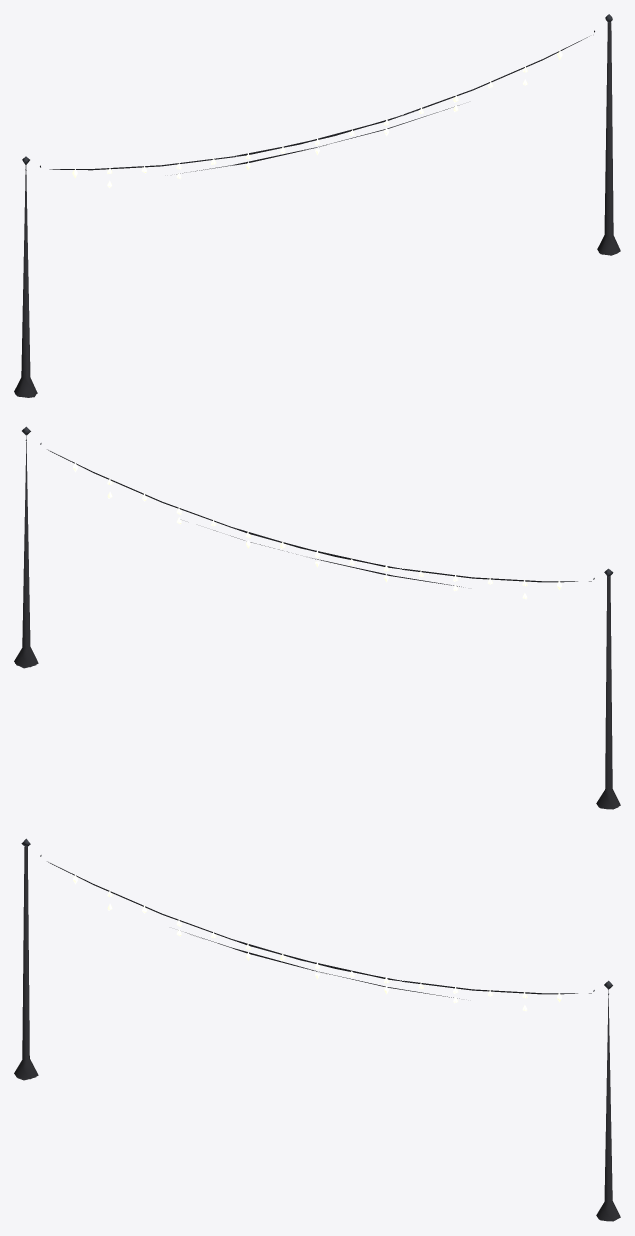
Rendered from lod_string_lights_span.glb.
The picture shows the model from 3 angles, top to bottom: view 1: azimuth 30°, elevation 25°; view 2: azimuth 150°, elevation 25°; view 3: azimuth 330°, elevation 25°; orthographic projection.
Visible parts, largest first — view 1: string_lights_span; view 2: string_lights_span; view 3: string_lights_span.
Part boxes in pixels (x1=…): string_lights_span: x1=14, y1=14, x2=620, y2=397; string_lights_span: x1=14, y1=426, x2=620, y2=809; string_lights_span: x1=14, y1=838, x2=620, y2=1221.
Bounding box in the file's own units: 12.43 × 4.67 × 0.4024.
